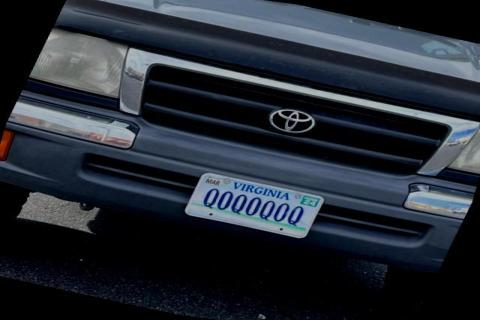LicensePlate: (182, 171, 323, 237)
